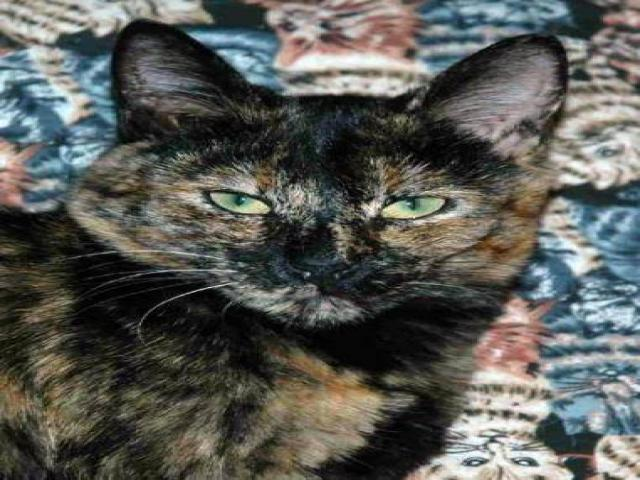cat: (18, 16, 572, 480)
